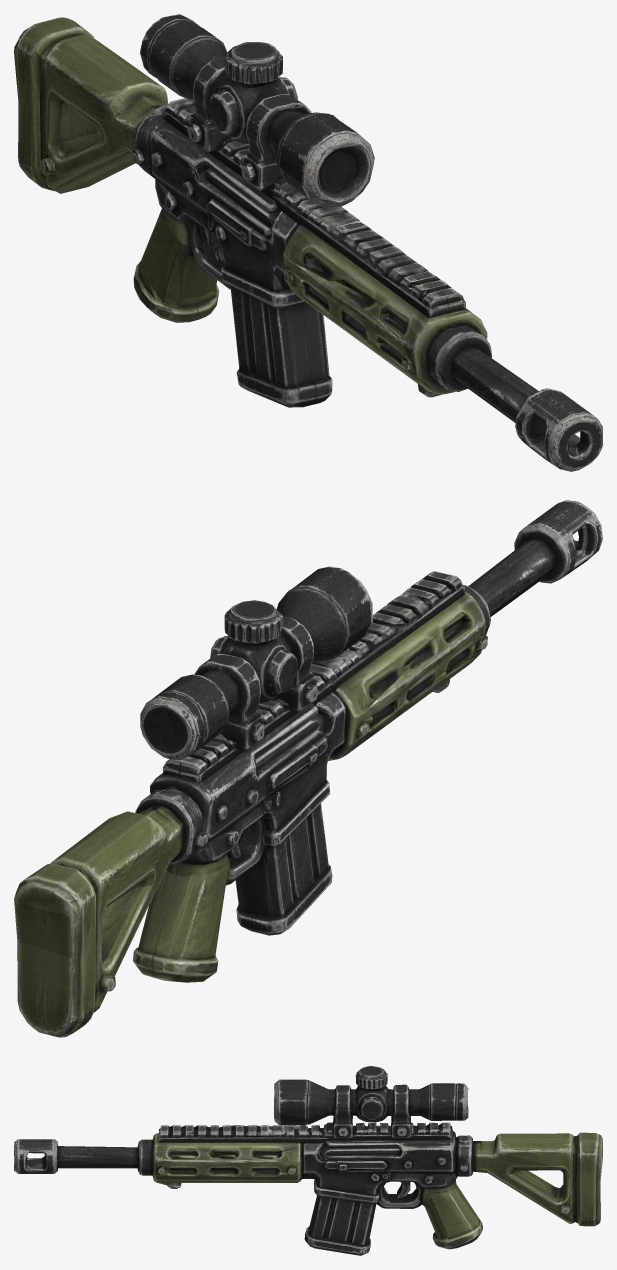
The model's file is gun_cannon.glb.
3 views of the same model, one above another, from view 1: azimuth 30°, elevation 25°; view 2: azimuth 150°, elevation 25°; view 3: azimuth 270°, elevation 25° (orthographic). The views are drawn at different scales.
Size of the model in its own units: 0.1591 by 0.617 by 1.82.
Materials: 1 (1 with a texture image).
